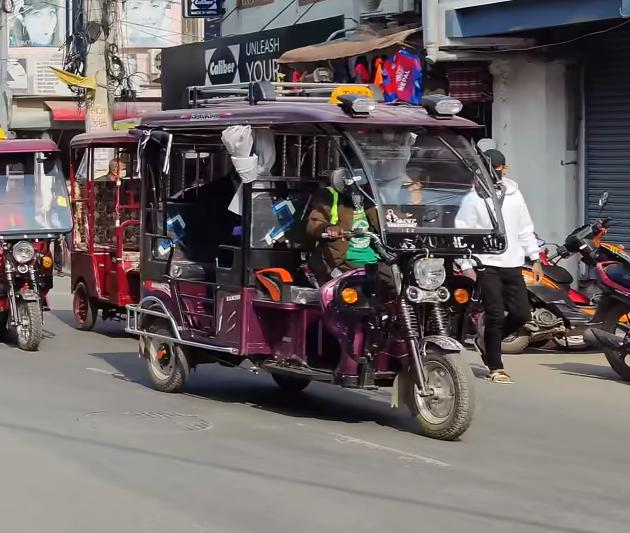e-rickshaw: (129, 70, 518, 441), (0, 136, 72, 353)
scooter: (500, 190, 630, 356)
